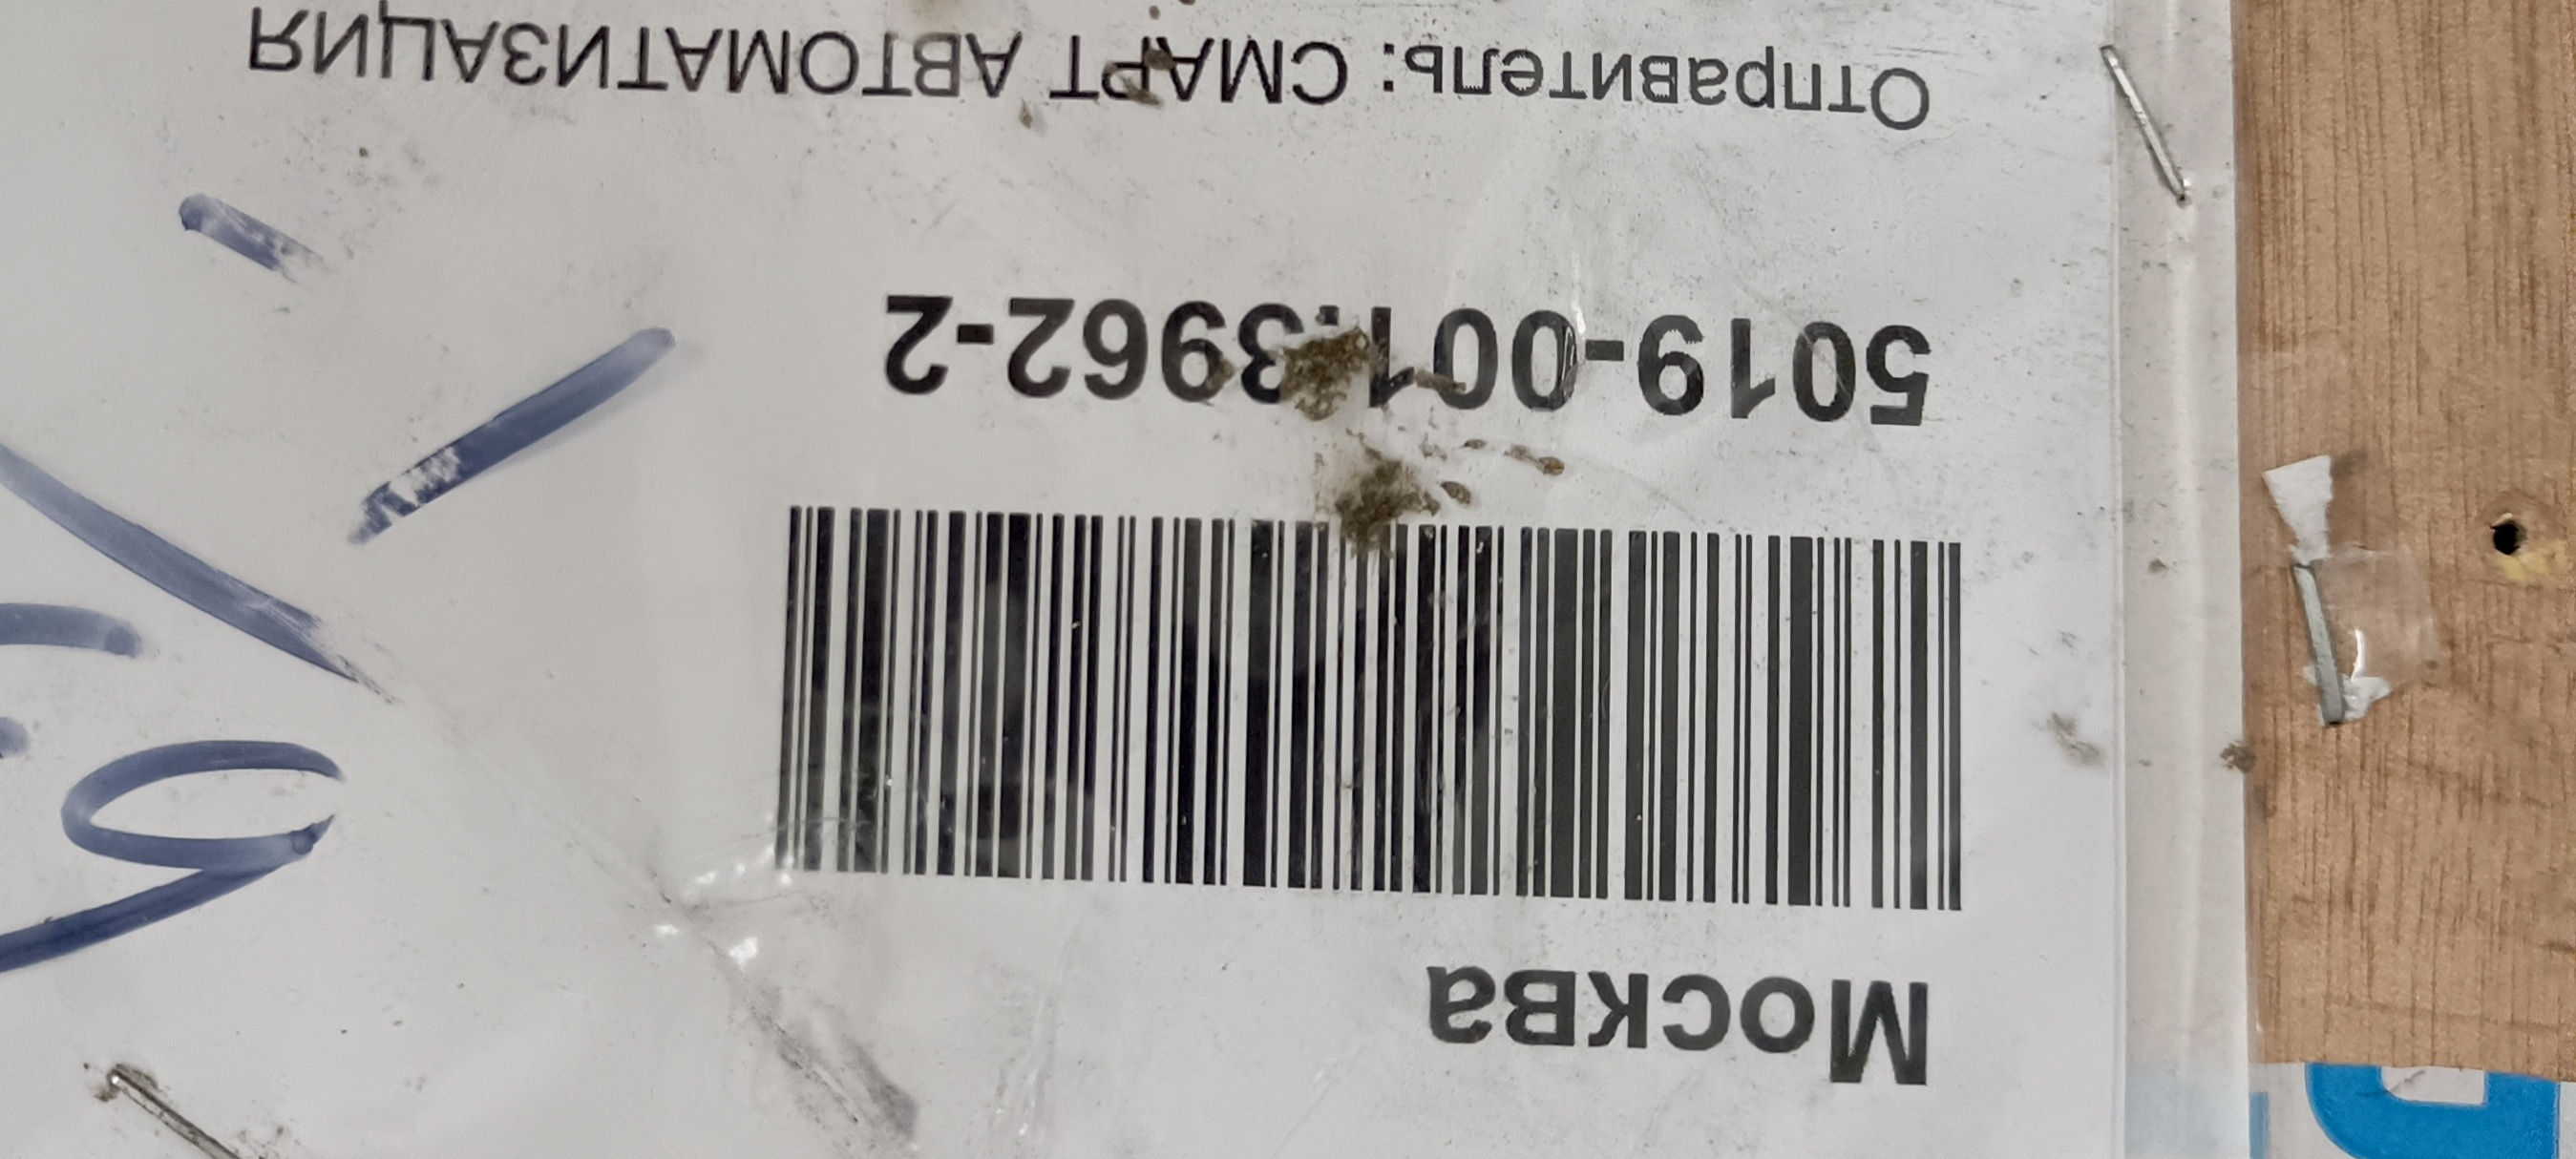1d: (766, 496, 1968, 914)
